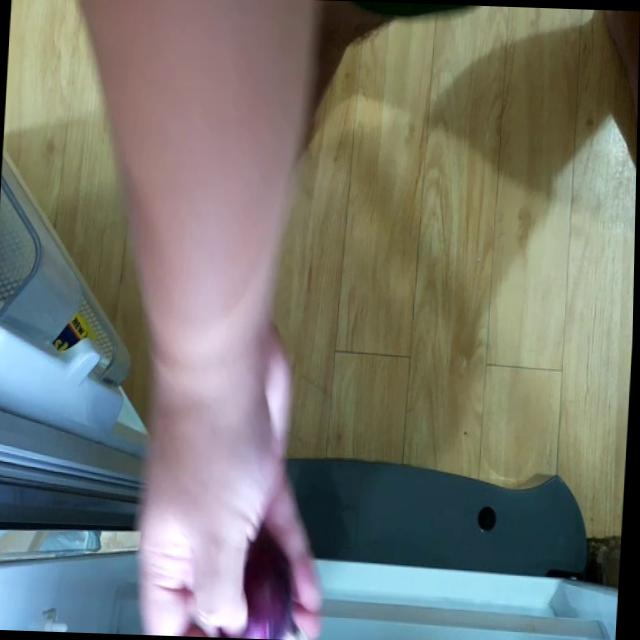onion: (228, 534, 307, 640)
